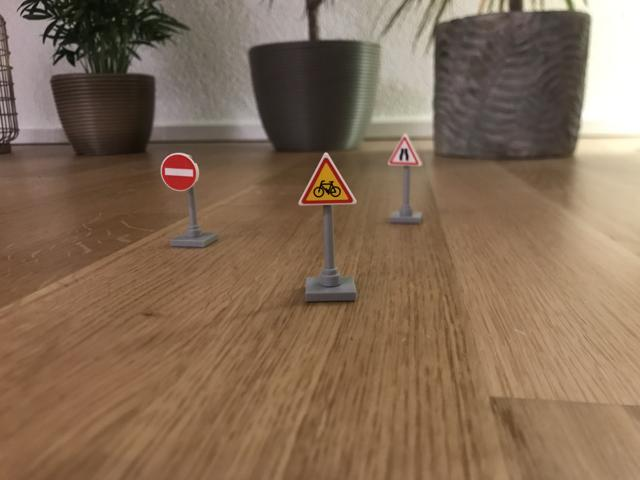radfahrer: (299, 153, 357, 208)
verbot der einfahrt: (159, 152, 200, 192)
verengte fahrbahn: (384, 135, 425, 168)
